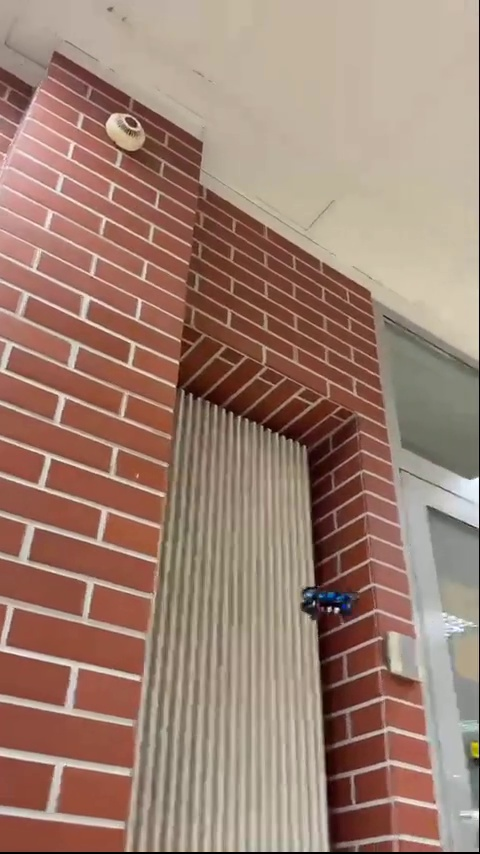drone: (303, 582, 361, 623)
